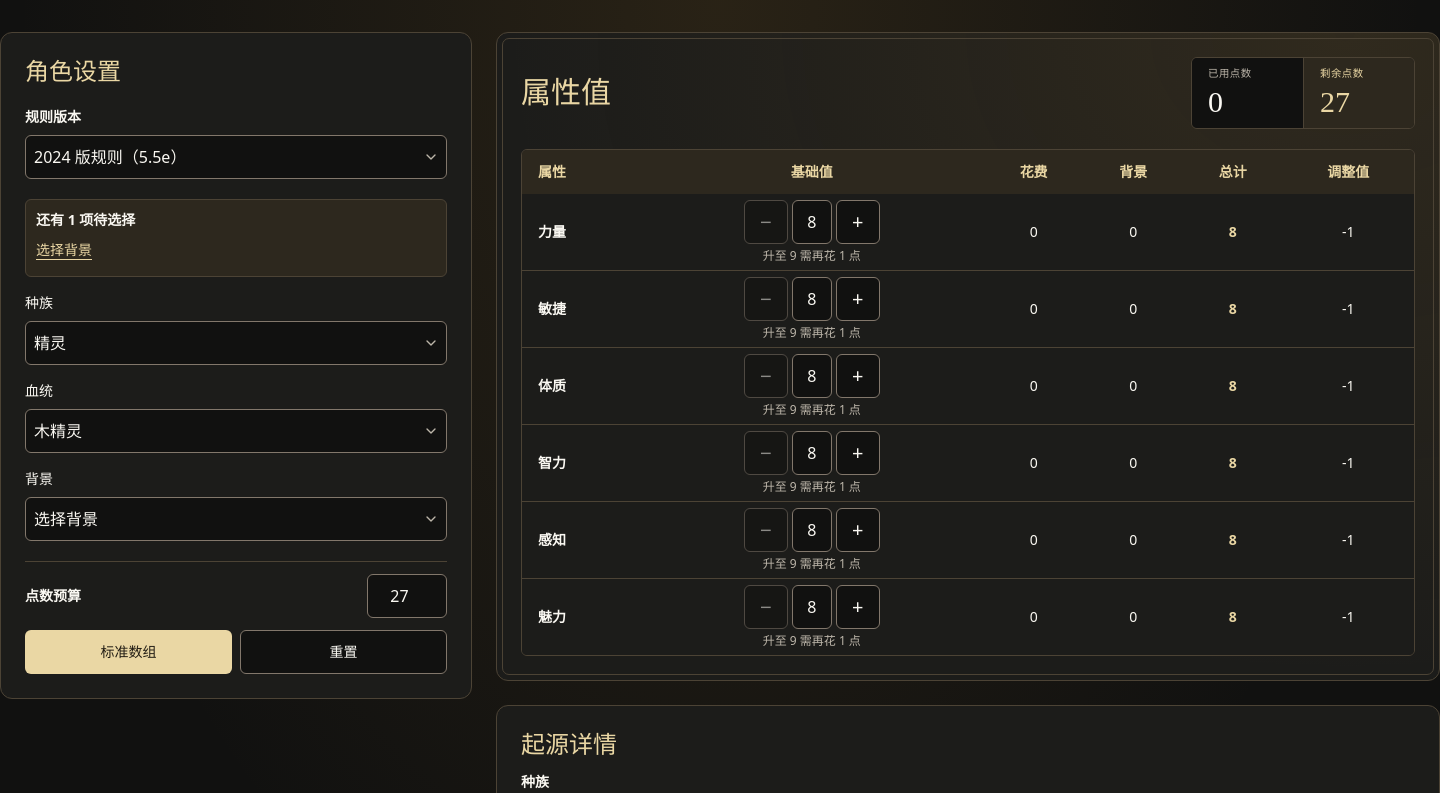
Scenario: CharacterForm and BuildSync › copies a share link with the current scores, origin, and language
Replace the text in the number field named "力量 基础值" with "15" at point(812, 222), box [792,200,832,244]
(page scrolled)
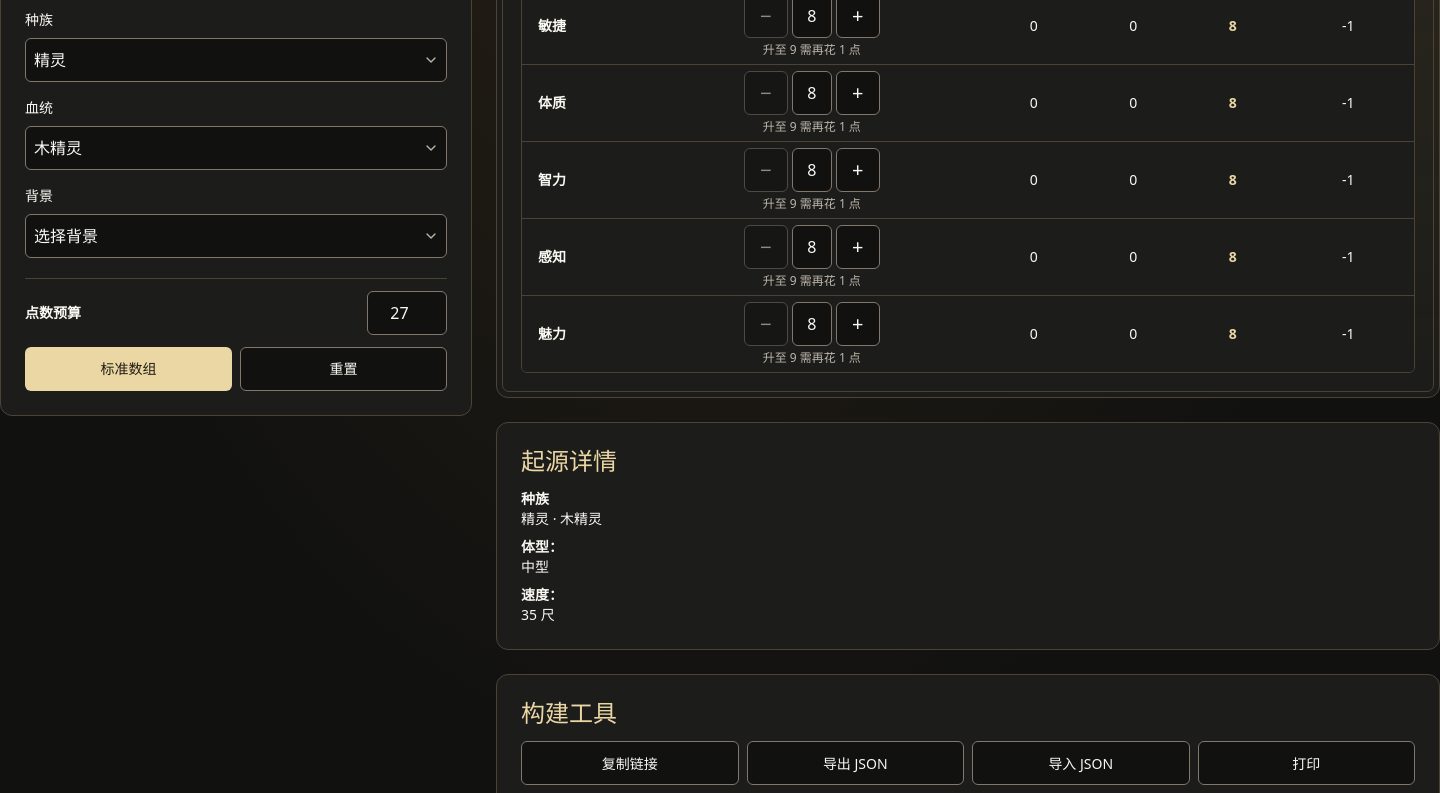
Click the button "复制链接" at point(630, 763), box [521,741,738,785]
(page scrolled)
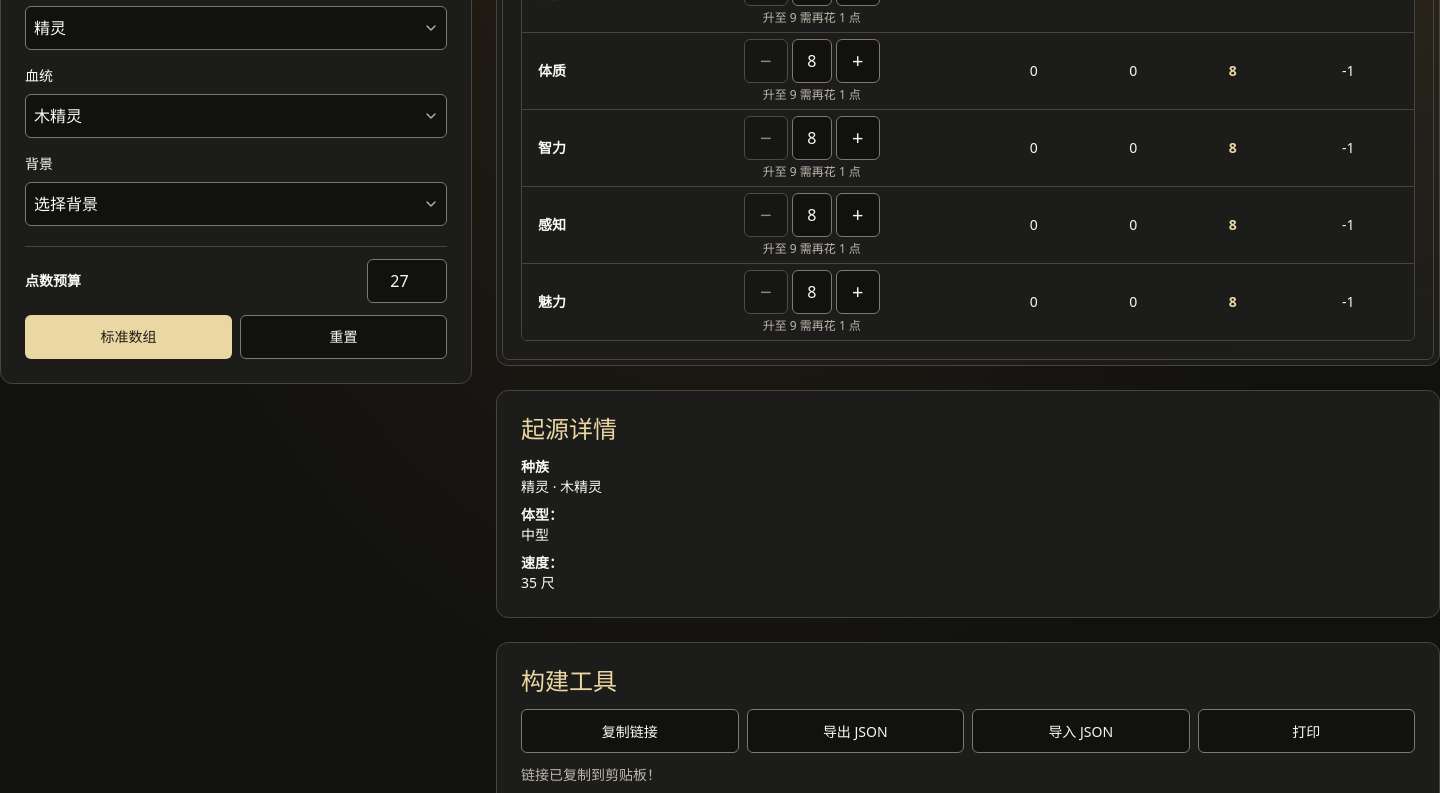
Expected: the text "链接已复制到剪贴板！" is shown, [521,765,661,784]
